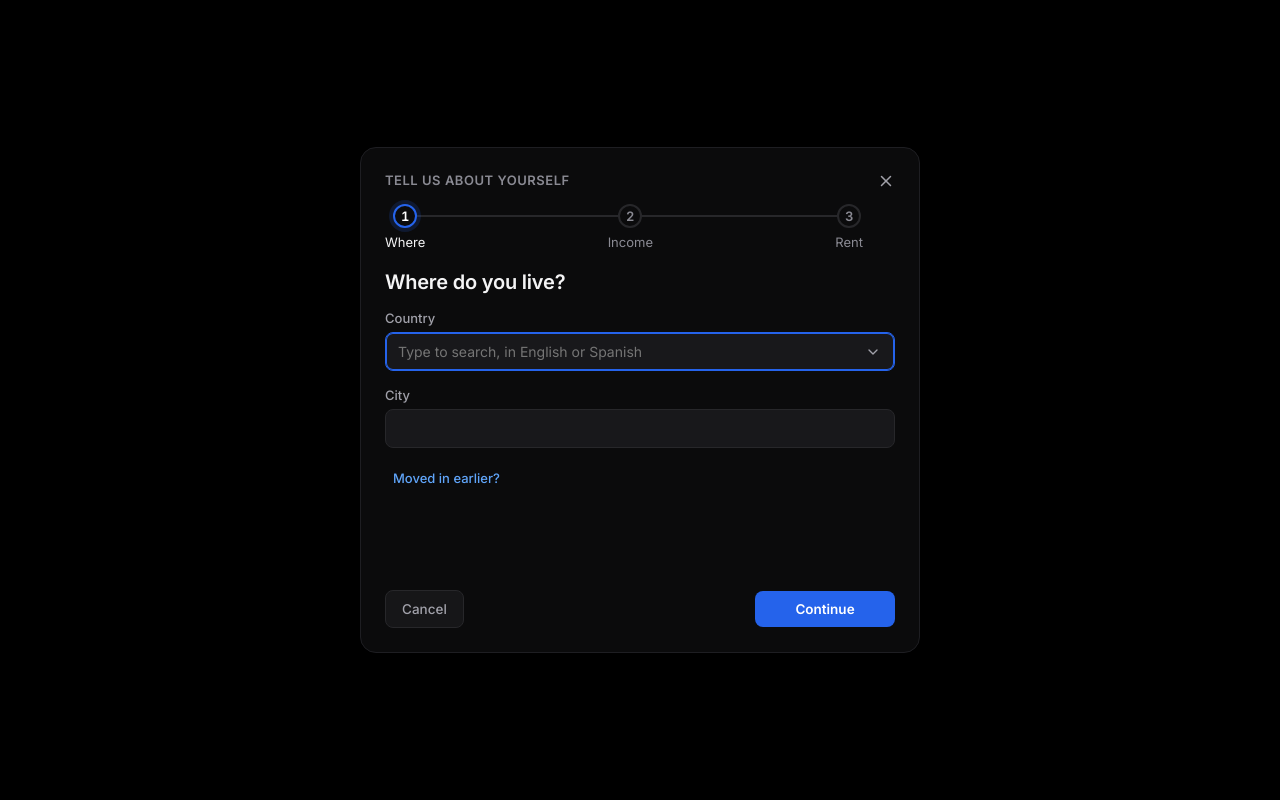
it: OnboardingWizard: moved in earlier › opens the day on request, never later than today
Click the button "Moved in earlier?". click: {"x": 446, "y": 478}
box: top-left (385, 464), bottom-right (895, 492)
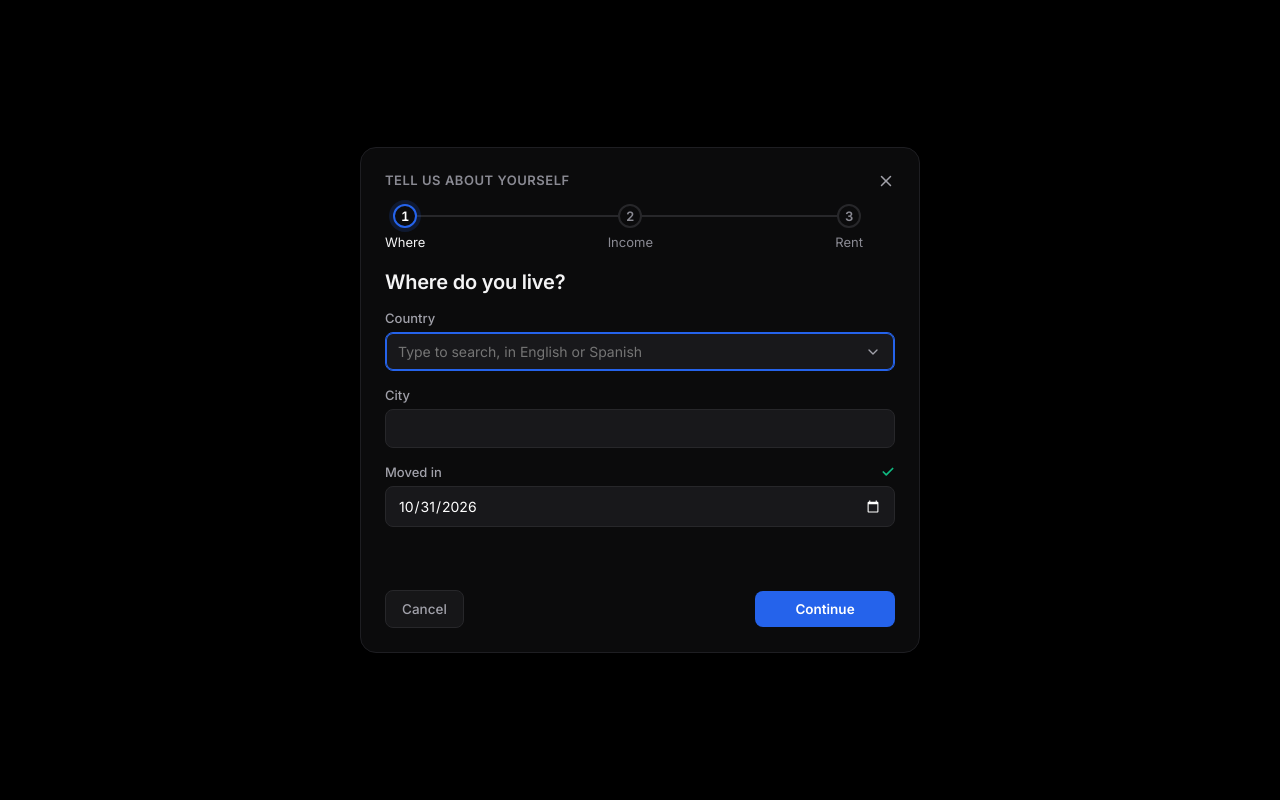
Expected: the date field labelled "Moved in" holds "2026-10-31", top-left (385, 486), bottom-right (895, 527)
